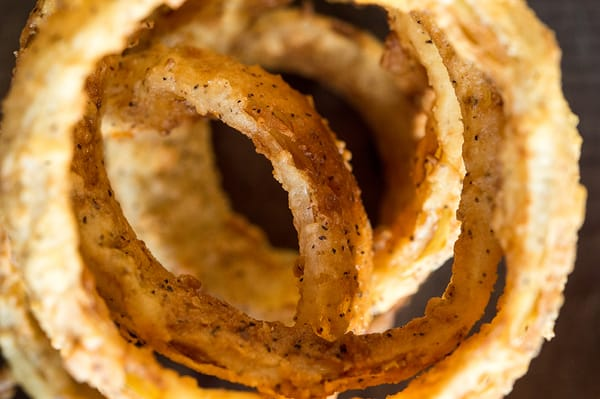salad: (6, 1, 599, 392)
